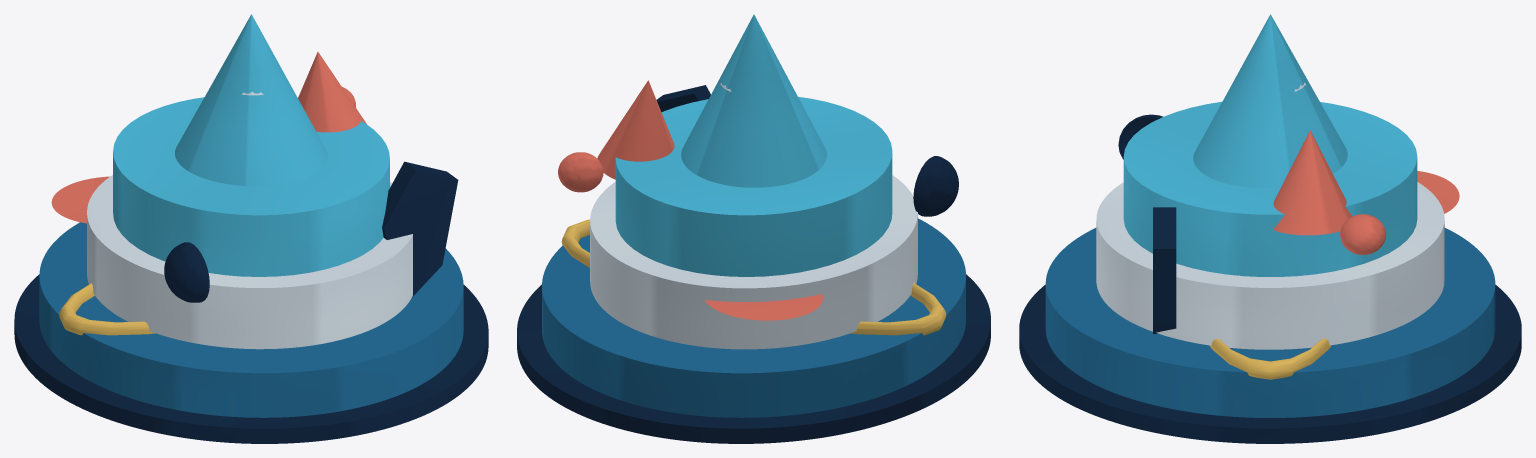
The model's file is 0603_考古图鉴_贾湖猪下颌骨.glb.
The picture shows the model from 3 angles, left to right: view 1: azimuth 30°, elevation 25°; view 2: azimuth 150°, elevation 25°; view 3: azimuth 270°, elevation 25°; orthographic projection.
Visible parts, largest first — view 1: card_0603; view 2: card_0603; view 3: card_0603.
Boxes of the visible parts, x1,y1,x2,y2 form: card_0603: [14, 14, 488, 443]; card_0603: [517, 14, 990, 443]; card_0603: [1019, 14, 1521, 443].
Size of the model in its own units: 1.29 by 1 by 1.38.
